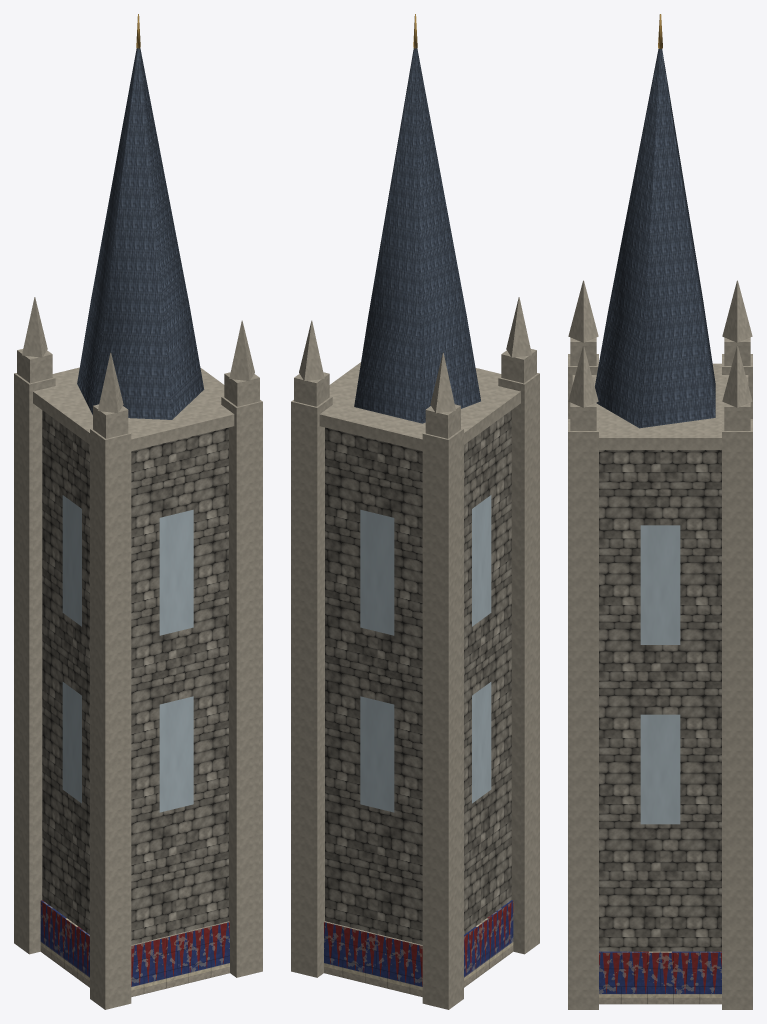
File: Palace_Imperial_Spire_1_LOD1.gltf
3 views of the same model, side by side, from view 1: azimuth 30°, elevation 25°; view 2: azimuth 150°, elevation 25°; view 3: azimuth 270°, elevation 25° (orthographic).
Parts seen in each view (by area): view 1: Palace_Imperial_Spire_1_LOD1; view 2: Palace_Imperial_Spire_1_LOD1; view 3: Palace_Imperial_Spire_1_LOD1.
Boxes of the visible parts, left/top/right/bottom form: Palace_Imperial_Spire_1_LOD1: left=14, top=14, right=262, bottom=1009; Palace_Imperial_Spire_1_LOD1: left=291, top=14, right=539, bottom=1009; Palace_Imperial_Spire_1_LOD1: left=568, top=14, right=752, bottom=1009.
Bounding box in the file's own units: 8.4 × 48 × 8.4.
Materials: 6 (6 with a texture image).
